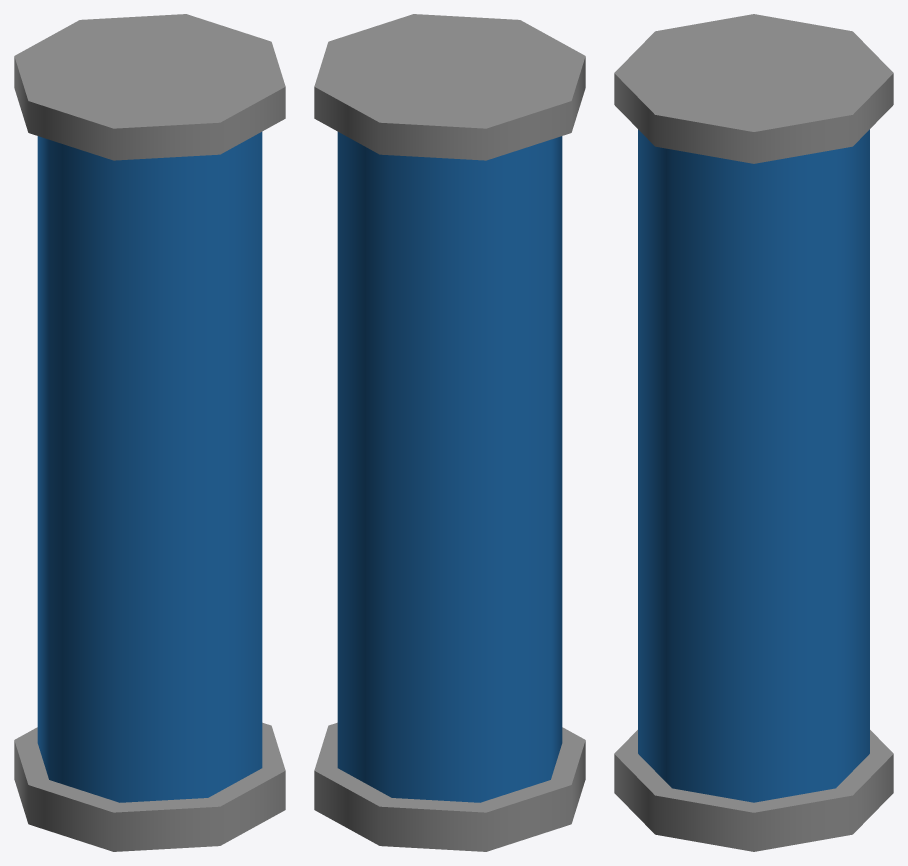
Rendered from advertsign_1 1.fbx.
3 renders of one model, left to right at view 1: azimuth 30°, elevation 25°; view 2: azimuth 150°, elevation 25°; view 3: azimuth 270°, elevation 25°, orthographic.
Parts seen in each view (by area): view 1: advertsign_1; view 2: advertsign_1; view 3: advertsign_1.
Boxes of the visible parts, x1=… form: advertsign_1: x1=14, y1=14, x2=285, y2=851; advertsign_1: x1=314, y1=14, x2=585, y2=851; advertsign_1: x1=614, y1=14, x2=893, y2=851.
Bounding box in the file's own units: 0.5798 × 1.65 × 0.5798.
